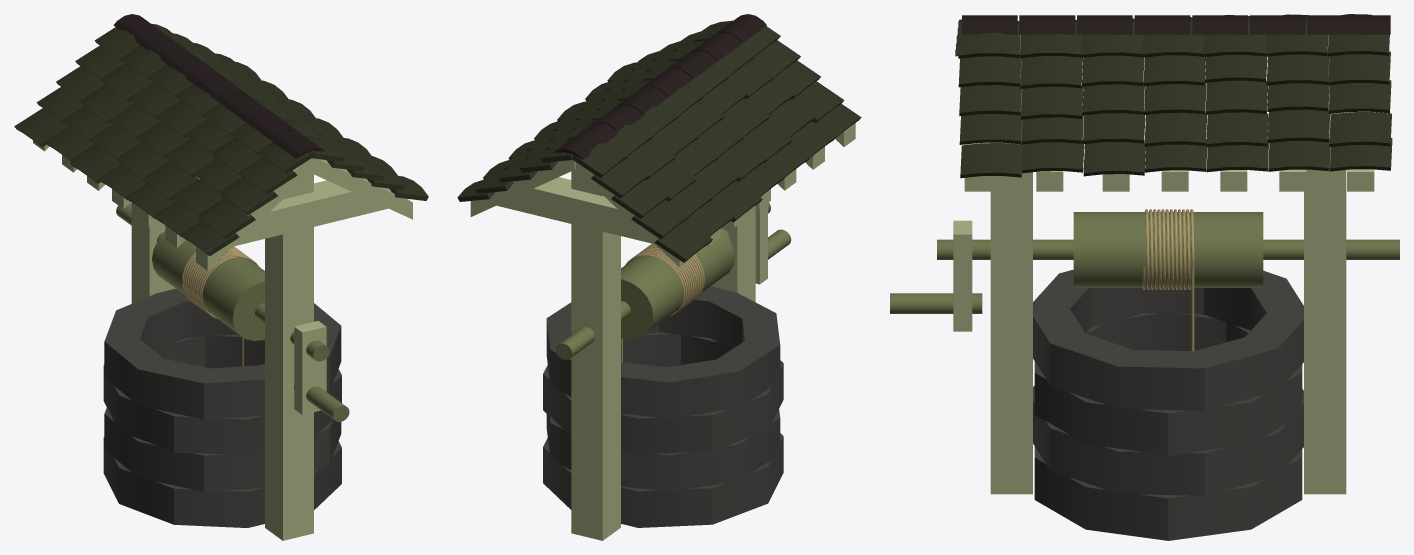
File: KolodecFBX.fbx
3 renders of one model, left to right at view 1: azimuth 30°, elevation 25°; view 2: azimuth 150°, elevation 25°; view 3: azimuth 270°, elevation 25°, orthographic. The views are drawn at different scales.
Visible parts, largest first — view 1: Roof1, Kolodec1, Woods1, Krutilka1, TopOfRoof1, Rope; view 2: Roof1, Kolodec1, Woods1, Krutilka1, TopOfRoof1, Rope; view 3: Kolodec1, Roof1, Woods1, Krutilka1, TopOfRoof1, Rope.
Boxes of the visible parts, <box> form: Roof1: <box>14,24,428,256</box>; Kolodec1: <box>103,288,341,527</box>; Woods1: <box>33,140,412,540</box>; Krutilka1: <box>116,203,349,421</box>; TopOfRoof1: <box>113,14,325,158</box>; Rope: <box>182,246,258,366</box>; Roof1: <box>457,20,861,262</box>; Kolodec1: <box>543,286,783,527</box>; Woods1: <box>470,82,855,540</box>; Krutilka1: <box>555,202,791,359</box>; TopOfRoof1: <box>553,14,766,159</box>; Rope: <box>621,243,704,361</box>; Kolodec1: <box>1033,269,1303,540</box>; Roof1: <box>955,14,1392,178</box>; Woods1: <box>953,35,1374,494</box>; Krutilka1: <box>890,212,1399,313</box>; TopOfRoof1: <box>962,15,1390,34</box>; Rope: <box>1142,209,1194,351</box>.
Bounding box in the file's own units: 2.28 × 3.66 × 3.62.
